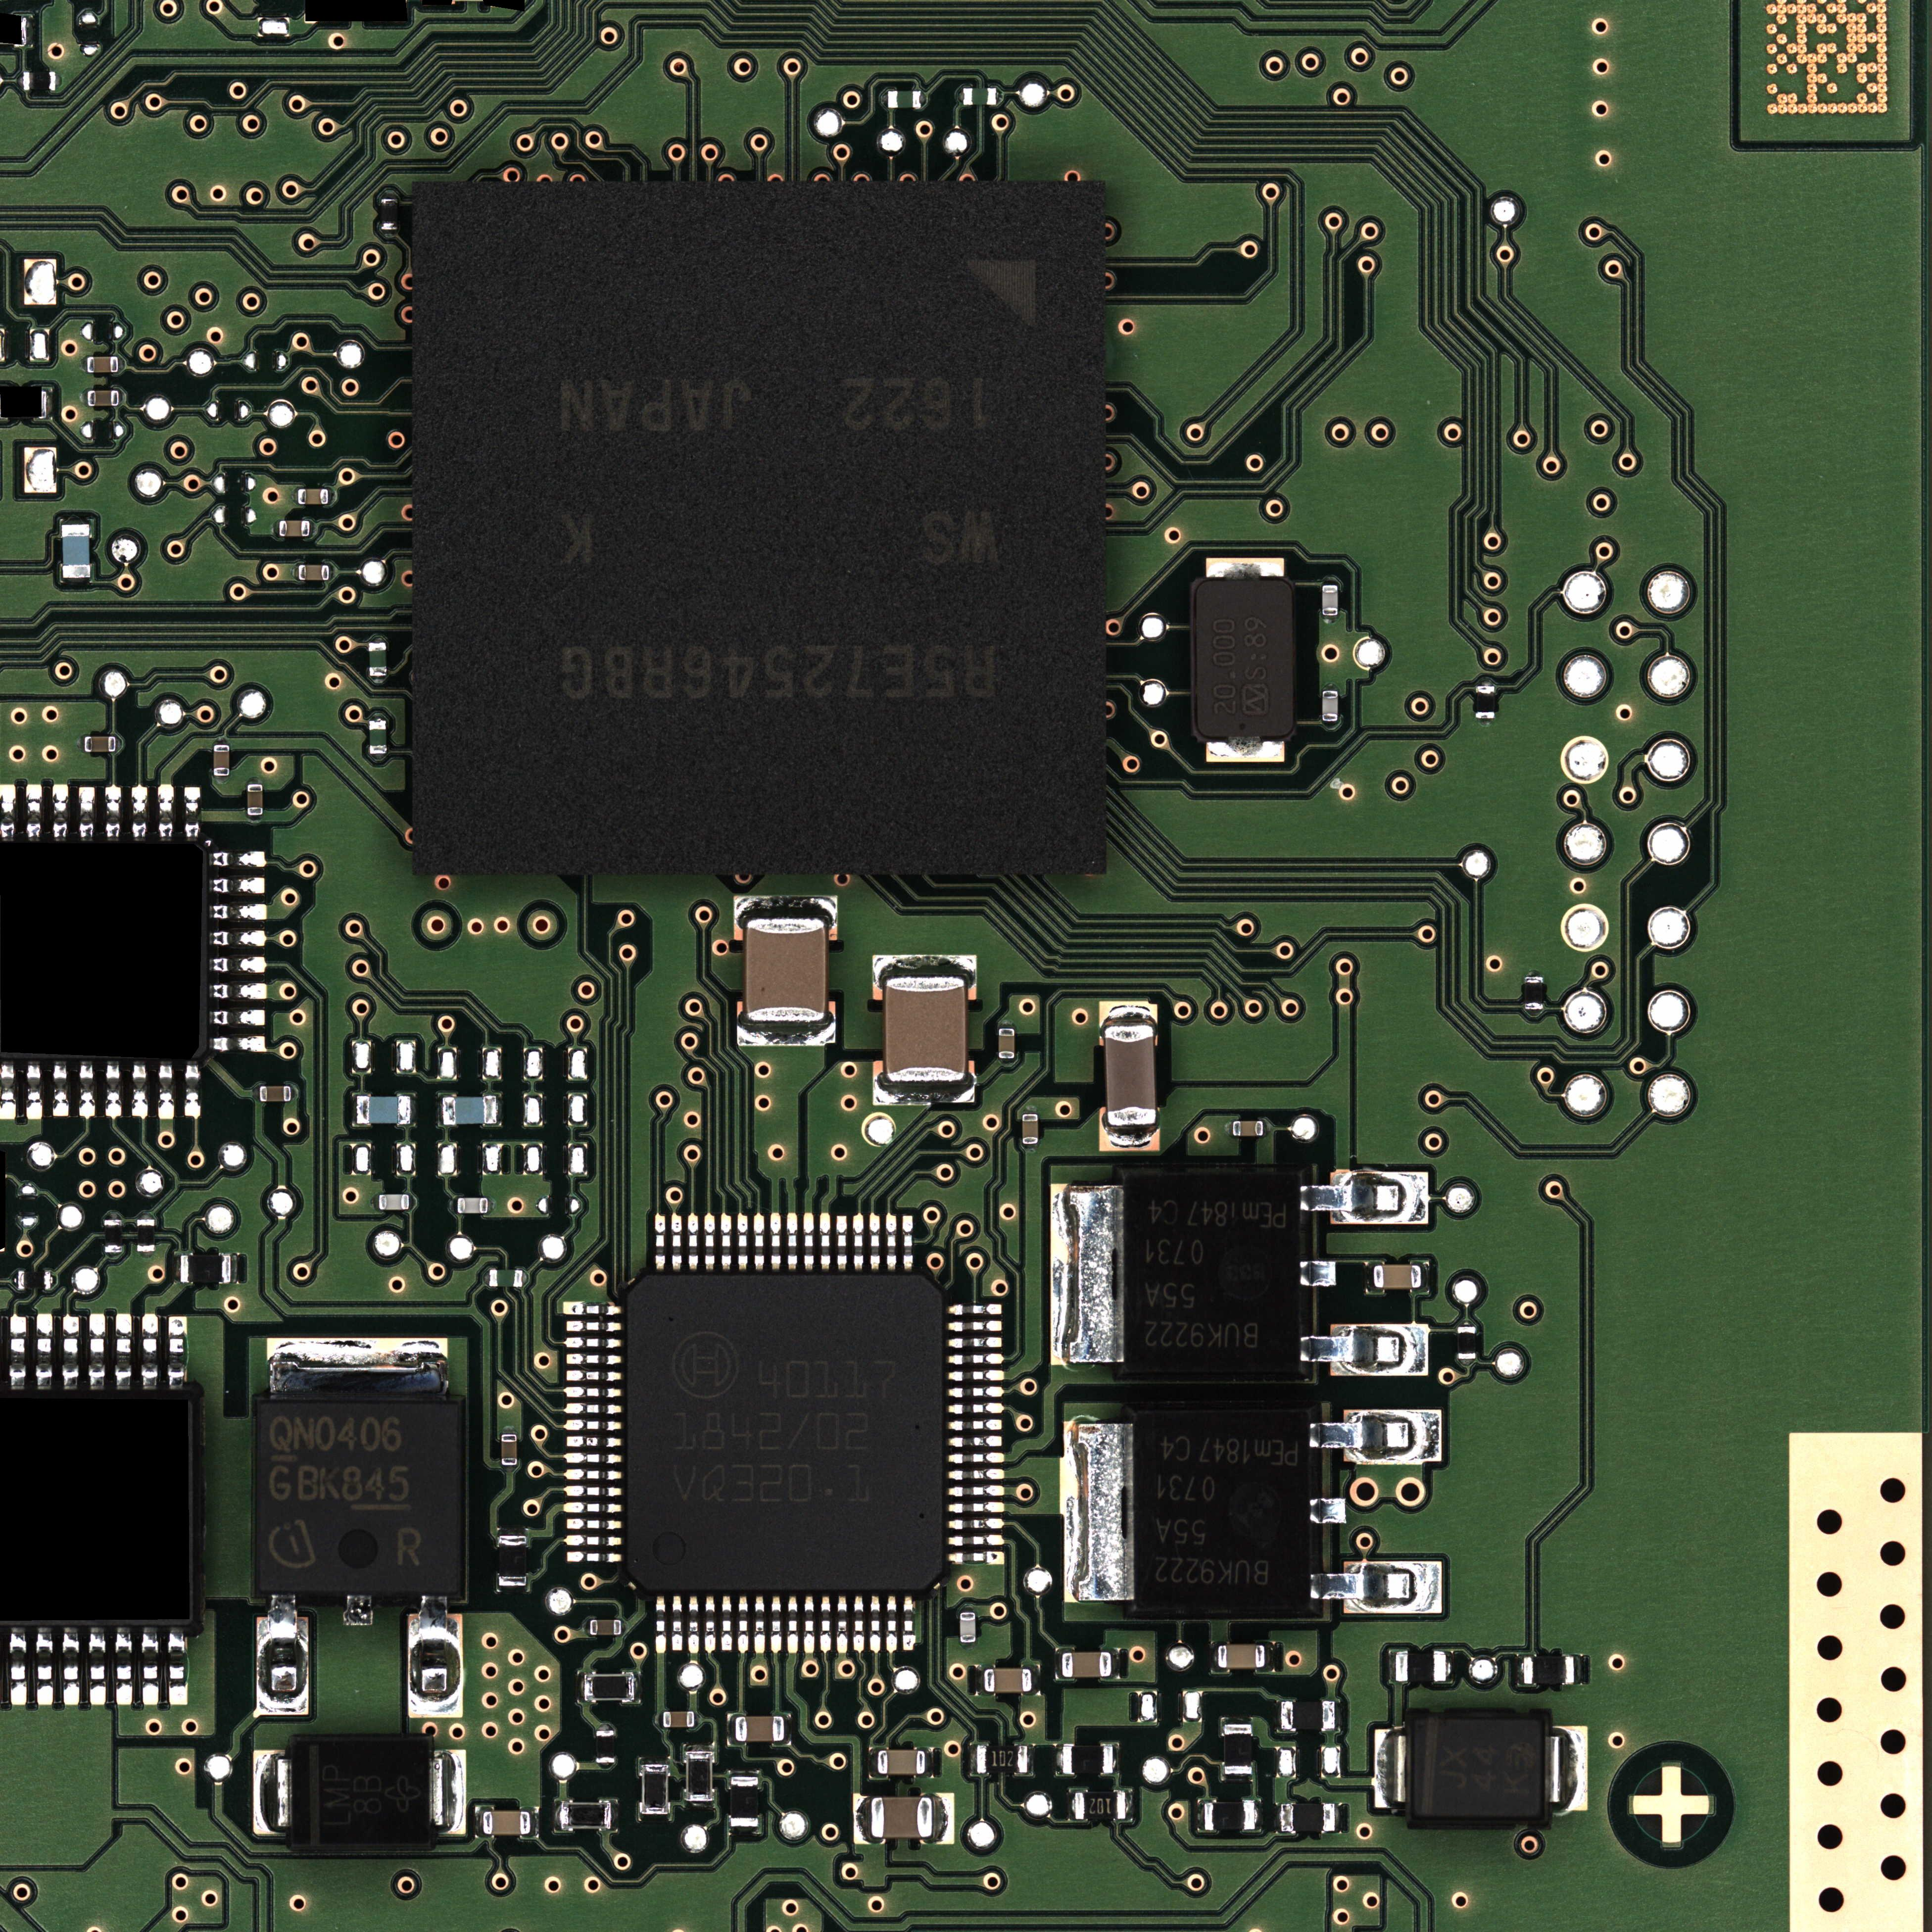Package: (412, 180, 1106, 876), (623, 1272, 948, 1594), (257, 1401, 464, 1594), (1132, 1410, 1309, 1614), (1123, 1173, 1300, 1375), (1194, 580, 1295, 736), (292, 1739, 430, 1849), (1412, 1718, 1543, 1819), (885, 977, 966, 1083), (745, 918, 826, 1023), (1106, 1026, 1155, 1127), (870, 1798, 932, 1836), (442, 1097, 497, 1125), (356, 1095, 410, 1123), (1281, 1702, 1336, 1730), (1523, 1656, 1575, 1686), (62, 525, 90, 579), (584, 1672, 633, 1702), (1205, 1801, 1254, 1831), (1063, 1744, 1113, 1775), (1396, 1652, 1445, 1683), (1223, 1725, 1253, 1775), (180, 1253, 230, 1283), (977, 1744, 1028, 1773), (499, 1536, 527, 1587), (1281, 1805, 1334, 1831), (561, 1801, 610, 1829), (685, 1752, 713, 1801), (640, 1764, 669, 1813), (731, 1776, 757, 1826), (1076, 1792, 1125, 1819), (1062, 1652, 1111, 1677), (878, 1750, 925, 1775), (736, 1716, 784, 1741), (984, 1668, 1031, 1691), (1217, 1645, 1265, 1668), (483, 1812, 531, 1835), (1375, 1265, 1421, 1288), (18, 1270, 51, 1290), (1476, 686, 1495, 718), (136, 1219, 154, 1253), (23, 73, 57, 90), (370, 720, 387, 754), (104, 1219, 122, 1253), (888, 90, 920, 108), (596, 1730, 614, 1762), (380, 198, 398, 230), (490, 1270, 522, 1288), (1458, 1327, 1476, 1359), (1525, 977, 1543, 1008), (962, 88, 996, 104), (370, 642, 386, 676), (87, 357, 119, 373), (663, 1711, 695, 1727), (1322, 690, 1338, 722), (87, 391, 119, 407), (501, 1435, 517, 1465), (1023, 1115, 1039, 1145), (591, 1619, 621, 1635), (214, 745, 230, 775), (458, 1198, 488, 1214), (297, 488, 327, 504), (280, 520, 310, 536), (1322, 586, 1338, 616), (85, 736, 115, 752), (379, 1194, 409, 1210), (299, 564, 329, 580), (260, 1086, 290, 1102), (248, 784, 262, 816), (1000, 1028, 1014, 1058), (1233, 1122, 1263, 1136), (961, 1612, 975, 1642)
Solder: (1051, 1184, 1123, 1364), (1063, 1421, 1134, 1603), (267, 1338, 449, 1399), (1309, 1408, 1442, 1463), (1300, 1171, 1430, 1224), (1311, 1562, 1442, 1614), (1300, 1323, 1430, 1375), (257, 1594, 310, 1716), (409, 1596, 462, 1718), (1545, 1727, 1589, 1812), (253, 1750, 292, 1835), (430, 1748, 465, 1835), (1375, 1729, 1412, 1808), (732, 895, 837, 918), (872, 1083, 975, 1106), (874, 954, 977, 975), (738, 1024, 837, 1046), (1207, 738, 1284, 763), (1207, 557, 1284, 580), (60, 1629, 83, 1707), (7, 1629, 30, 1707), (166, 1629, 189, 1706), (140, 1629, 163, 1706), (168, 1313, 189, 1392), (113, 1629, 134, 1707), (87, 1629, 108, 1707), (34, 1629, 55, 1707), (9, 1311, 28, 1392), (62, 1311, 80, 1392), (142, 1311, 159, 1392), (35, 1313, 53, 1392), (88, 1313, 106, 1392), (115, 1313, 133, 1392), (156, 1062, 177, 1120), (104, 1062, 124, 1122), (1108, 1125, 1157, 1148), (25, 782, 44, 840), (129, 782, 149, 840), (211, 849, 269, 869), (211, 876, 269, 895), (211, 902, 269, 922), (211, 929, 269, 948), (211, 955, 269, 975), (211, 982, 269, 1001), (211, 1035, 269, 1054), (25, 1062, 44, 1120), (182, 1062, 202, 1120), (51, 1062, 71, 1118), (51, 782, 69, 842), (104, 782, 122, 842), (932, 1794, 954, 1844), (78, 784, 96, 842), (182, 782, 200, 840), (156, 782, 173, 840), (211, 1010, 269, 1028), (131, 1062, 149, 1120), (1104, 1005, 1152, 1026), (78, 1062, 96, 1118), (1311, 1499, 1346, 1523), (1300, 1261, 1336, 1286), (563, 1302, 623, 1316), (853, 1796, 870, 1844), (347, 1594, 372, 1626), (770, 1212, 782, 1272), (671, 1212, 683, 1272), (720, 1212, 732, 1272), (869, 1212, 881, 1272), (564, 1468, 623, 1481), (947, 1369, 1005, 1382), (853, 1594, 865, 1652), (754, 1594, 766, 1652), (948, 1552, 1005, 1564), (948, 1468, 1005, 1481), (948, 1534, 1005, 1546), (566, 1369, 623, 1382), (902, 1594, 915, 1651), (566, 1320, 623, 1332), (566, 1518, 623, 1530), (947, 1320, 1001, 1332), (948, 1419, 1001, 1431), (948, 1435, 1001, 1447), (563, 1502, 623, 1513), (563, 1403, 623, 1414), (688, 1212, 699, 1272), (704, 1212, 715, 1272), (656, 1594, 667, 1654), (803, 1212, 814, 1272), (738, 1594, 748, 1654), (787, 1212, 798, 1272), (563, 1338, 623, 1348), (738, 1212, 748, 1272), (754, 1212, 764, 1272), (947, 1403, 1005, 1414), (947, 1387, 1005, 1398), (564, 1536, 623, 1546), (564, 1486, 623, 1497), (564, 1453, 623, 1463), (564, 1419, 623, 1430), (564, 1387, 623, 1398), (704, 1594, 715, 1652), (787, 1594, 798, 1652), (771, 1594, 782, 1652), (688, 1594, 699, 1652), (870, 1594, 881, 1652), (837, 1594, 847, 1652), (853, 1214, 863, 1272), (886, 1214, 897, 1272), (655, 1214, 665, 1272), (819, 1214, 830, 1272), (821, 1594, 832, 1652), (803, 1594, 814, 1652), (886, 1594, 897, 1652), (948, 1486, 1005, 1497), (948, 1502, 1005, 1513), (947, 1353, 1003, 1364), (948, 1518, 1005, 1529), (948, 1453, 1005, 1463), (672, 1594, 683, 1651), (566, 1353, 623, 1364), (566, 1552, 623, 1562), (566, 1437, 623, 1447), (722, 1594, 732, 1651), (837, 1215, 847, 1272), (902, 1215, 913, 1272), (947, 1338, 1001, 1348), (948, 1304, 1001, 1315), (474, 1805, 483, 1838), (531, 1806, 540, 1838), (1366, 1261, 1375, 1293), (727, 1714, 736, 1746), (1223, 1716, 1253, 1725), (685, 1743, 715, 1752), (869, 1748, 878, 1778), (925, 1748, 934, 1778), (1223, 1775, 1253, 1783), (970, 1743, 977, 1776), (612, 1799, 619, 1831), (1198, 1799, 1205, 1831), (1389, 1651, 1396, 1683), (1113, 1743, 1120, 1775), (230, 1253, 237, 1284), (639, 1815, 671, 1822), (60, 518, 92, 525), (497, 1587, 529, 1594), (1447, 1651, 1454, 1683), (27, 16, 34, 48), (46, 387, 53, 419), (1125, 1790, 1132, 1821), (640, 1757, 671, 1764), (1422, 1261, 1430, 1292), (633, 1672, 640, 1702), (1254, 1801, 1261, 1831), (577, 1672, 584, 1702), (1056, 1744, 1063, 1775), (1031, 1665, 1039, 1695), (554, 1801, 561, 1831), (497, 1529, 527, 1536), (784, 1714, 791, 1744), (685, 1801, 715, 1808), (1518, 1656, 1525, 1686), (1067, 1790, 1074, 1821), (1272, 1803, 1279, 1833), (1336, 1803, 1343, 1833), (499, 1424, 518, 1435), (1111, 1649, 1118, 1677), (1336, 1702, 1343, 1730), (977, 1667, 984, 1695), (1274, 1702, 1281, 1730), (1265, 1642, 1272, 1670), (1575, 1656, 1582, 1684), (1322, 575, 1339, 586), (1210, 1644, 1217, 1670), (1476, 678, 1495, 686), (729, 1771, 759, 1776), (60, 579, 90, 584), (729, 1828, 759, 1833), (352, 1095, 357, 1125), (1028, 1744, 1033, 1775), (175, 1253, 180, 1283), (410, 1095, 416, 1125), (497, 1095, 502, 1125), (998, 1058, 1016, 1067), (409, 1194, 418, 1212), (1322, 722, 1339, 731), (655, 1711, 663, 1729), (310, 520, 318, 538), (370, 676, 387, 685), (271, 520, 280, 538), (370, 1192, 379, 1210), (76, 734, 85, 752), (1322, 616, 1339, 625), (288, 563, 297, 580), (437, 1097, 442, 1125), (115, 736, 124, 752), (1263, 1120, 1272, 1136), (1224, 1122, 1233, 1138), (961, 1642, 977, 1651), (1056, 1651, 1062, 1677), (582, 1619, 591, 1635), (1023, 1106, 1039, 1115), (329, 564, 338, 580), (1476, 718, 1495, 725), (136, 1212, 156, 1219), (136, 1251, 156, 1258), (483, 1269, 490, 1288), (16, 71, 23, 90), (11, 1270, 18, 1290), (695, 1711, 702, 1729), (370, 635, 387, 642), (596, 1723, 614, 1730), (1525, 1010, 1543, 1017), (920, 92, 927, 110), (881, 90, 888, 108), (104, 1212, 122, 1219), (998, 1021, 1016, 1028), (370, 754, 387, 761), (380, 191, 398, 198), (961, 1603, 975, 1612), (1458, 1320, 1476, 1327), (104, 1253, 122, 1260), (1322, 683, 1339, 690), (1458, 1359, 1476, 1366), (119, 356, 126, 373), (955, 88, 962, 106), (80, 356, 87, 373), (80, 389, 87, 407), (368, 713, 386, 720), (596, 1764, 614, 1771), (1525, 970, 1543, 977), (214, 777, 230, 784), (621, 1619, 628, 1635), (248, 816, 264, 823), (290, 488, 297, 504), (214, 738, 230, 745), (488, 1198, 495, 1214), (996, 88, 1003, 104), (119, 389, 126, 405), (290, 1086, 297, 1102), (501, 1465, 517, 1472), (1023, 1145, 1039, 1152), (449, 1198, 456, 1214), (382, 232, 398, 239), (329, 488, 336, 504), (251, 1086, 258, 1102), (57, 71, 62, 90), (524, 1269, 529, 1288), (51, 1270, 57, 1290), (248, 777, 262, 784)
